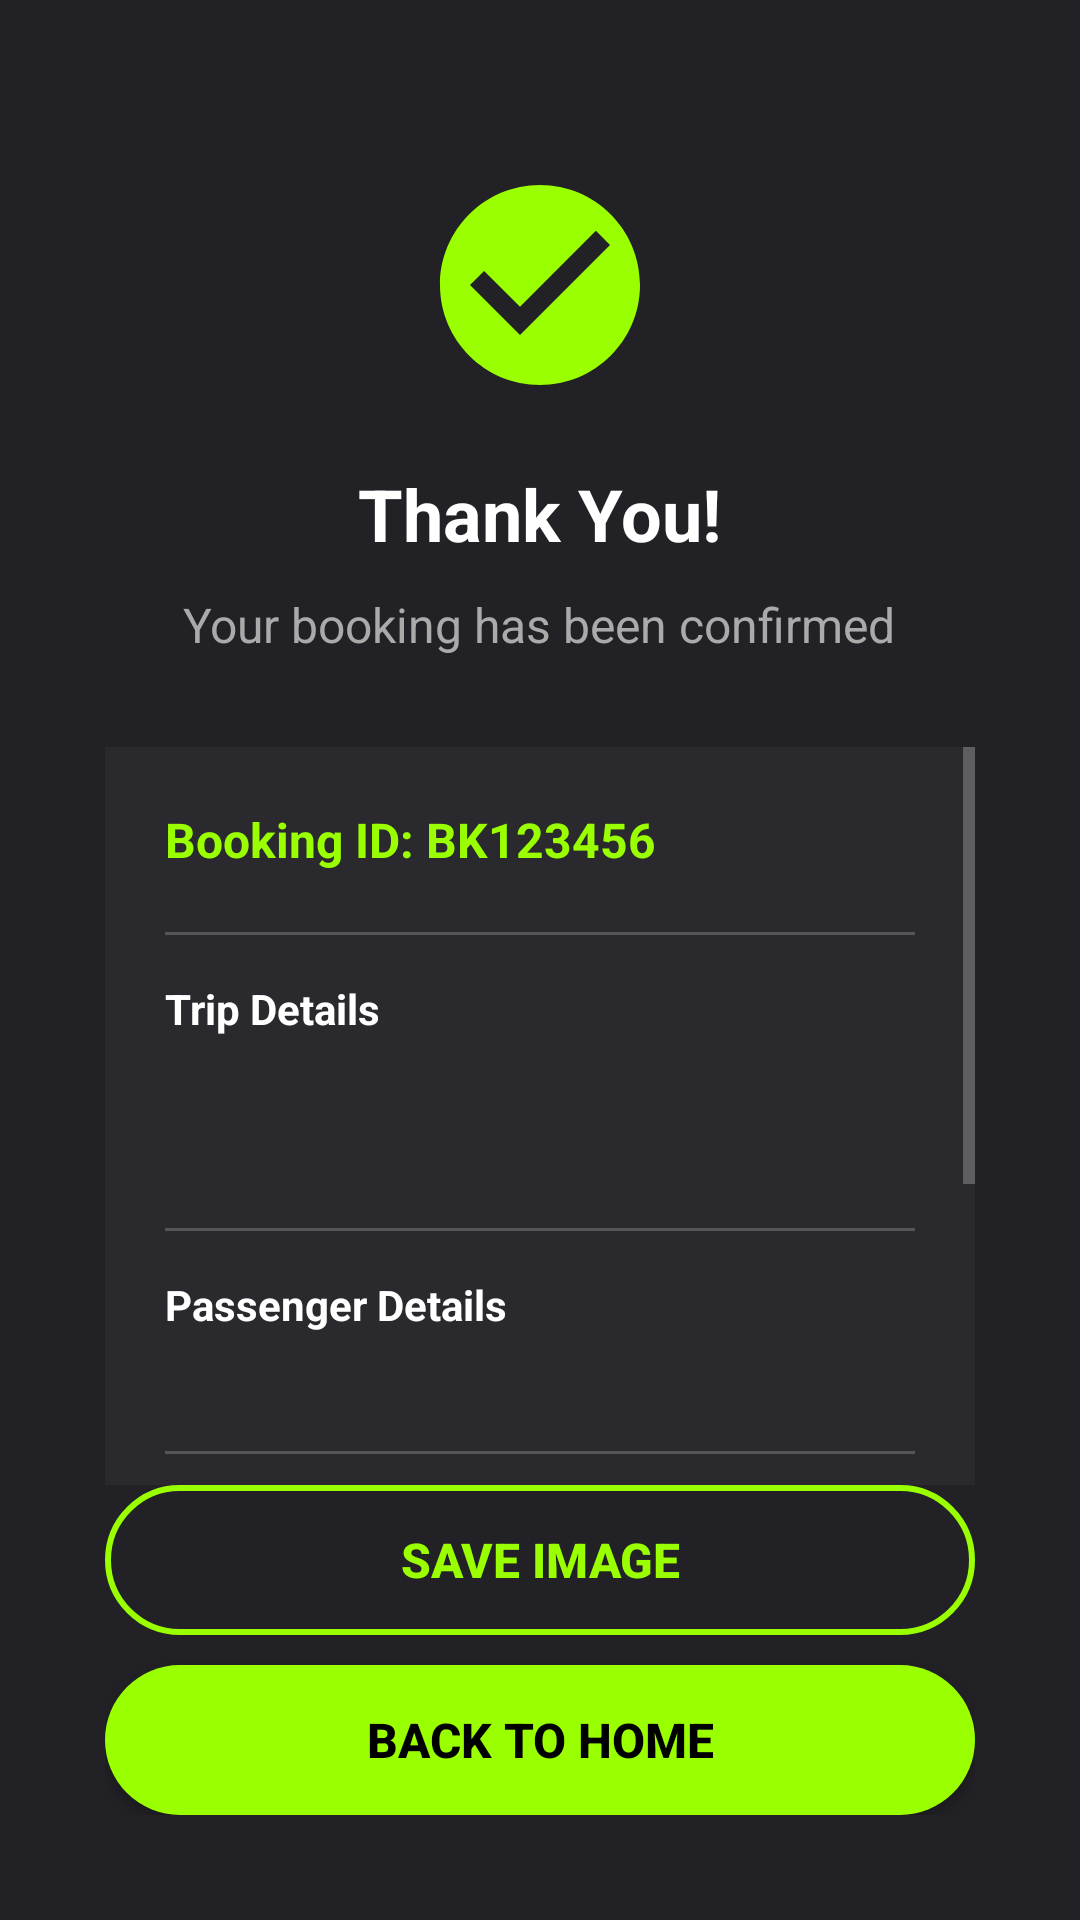

Icon click points for this 1080*1920 phone screenshot, format point (x, y):
check circle: point (540, 285)
